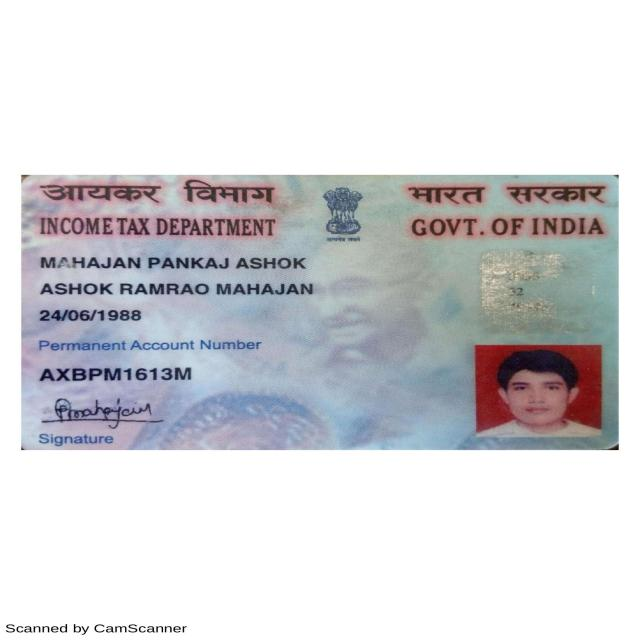pan_card: (26, 174, 619, 450)
